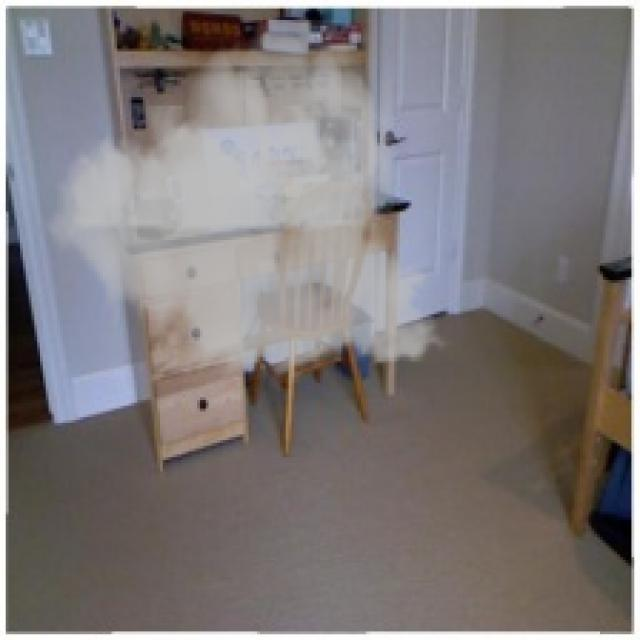smoke: (34, 20, 457, 389)
